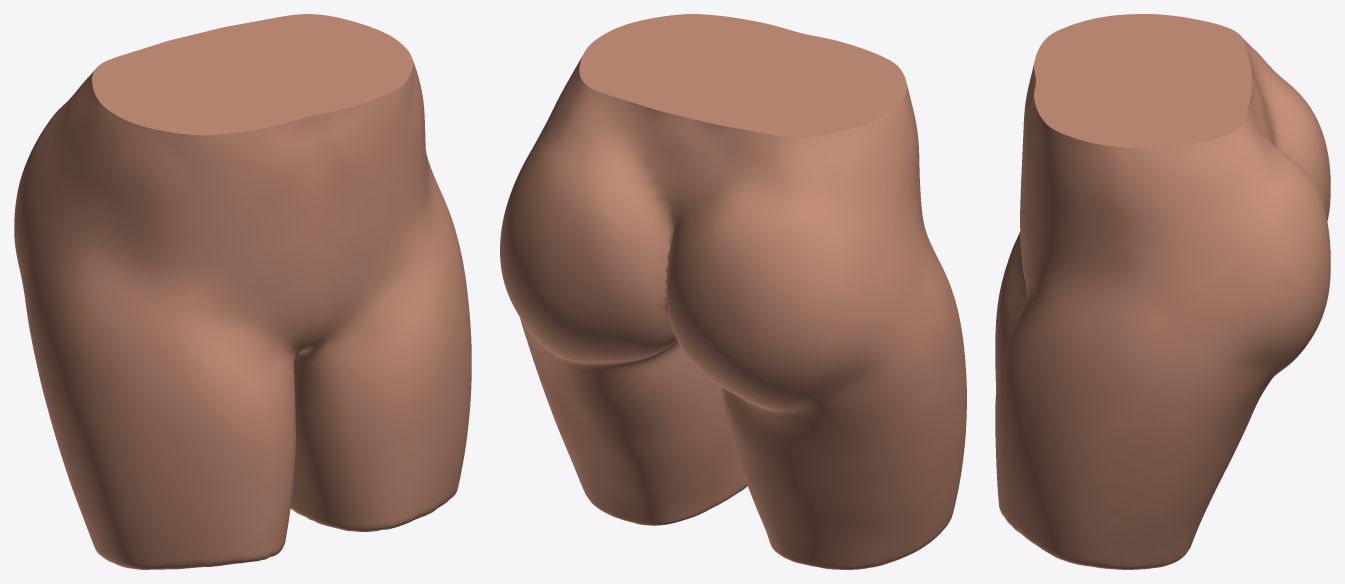
Rendered from buttclean.glb.
3 views of the same model, side by side, from view 1: azimuth 30°, elevation 25°; view 2: azimuth 150°, elevation 25°; view 3: azimuth 270°, elevation 25° (orthographic). The views are drawn at different scales.
Parts seen in each view (by area): view 1: Mesh1; view 2: Mesh1; view 3: Mesh1.
Boxes of the visible parts, <box> form: Mesh1: <box>14,14,471,569</box>; Mesh1: <box>500,14,966,569</box>; Mesh1: <box>995,14,1330,569</box>.
Size of the model in its own units: 1.28 by 1.37 by 0.987.
